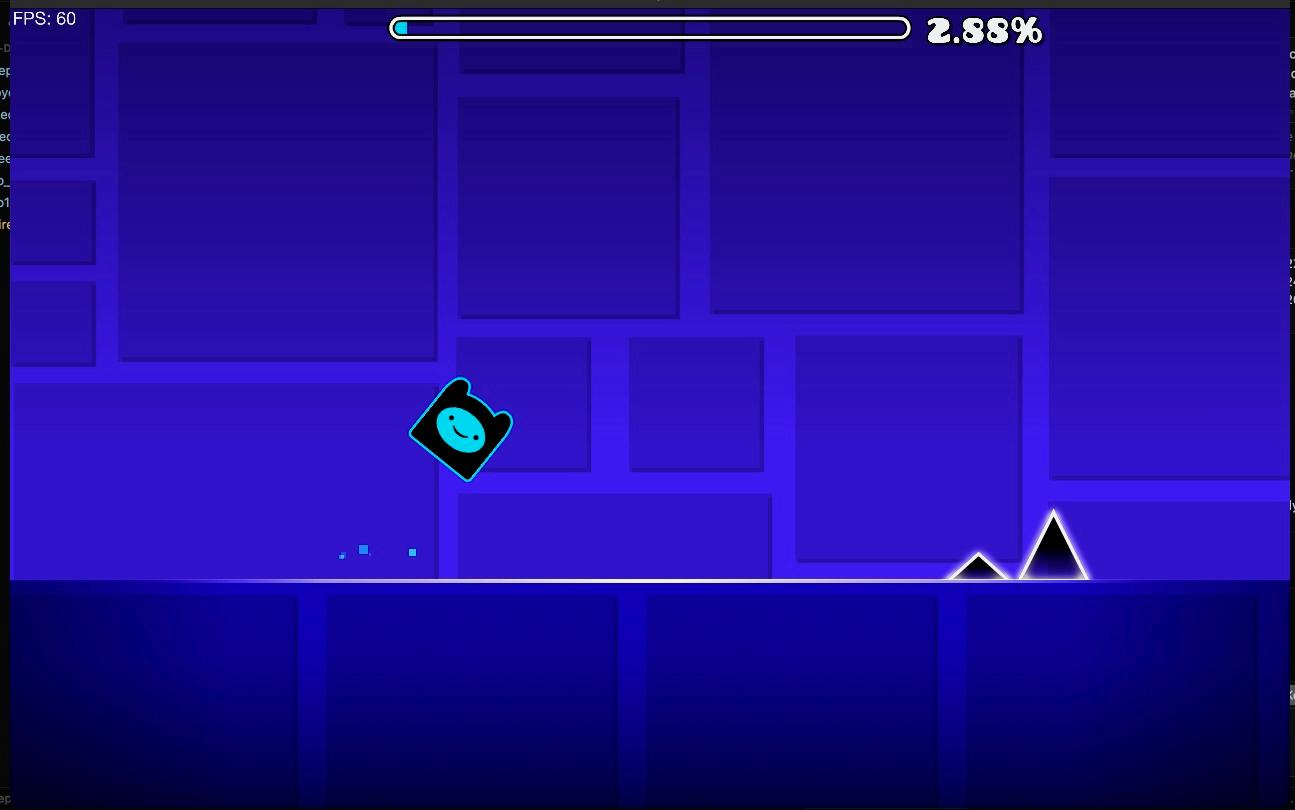player: (410, 377, 512, 480)
spike: (1018, 510, 1088, 578), (949, 553, 1006, 579)
